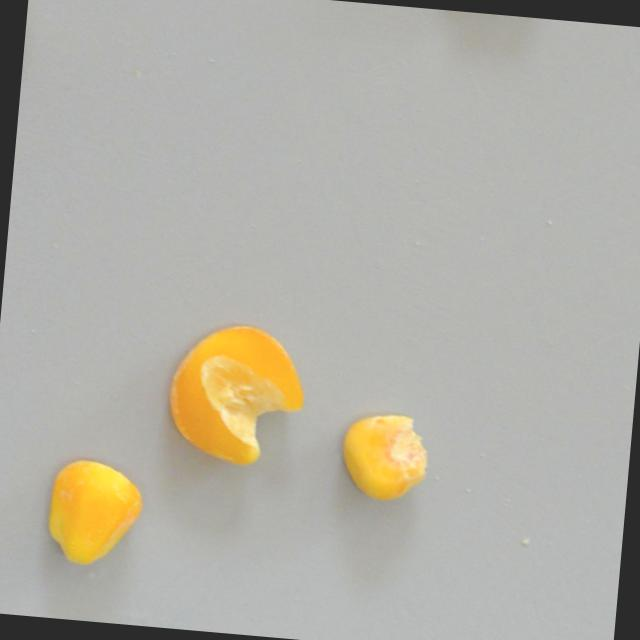no_desgerminado: (160, 319, 310, 473)
pelicula: (43, 457, 145, 572), (336, 408, 432, 506)
